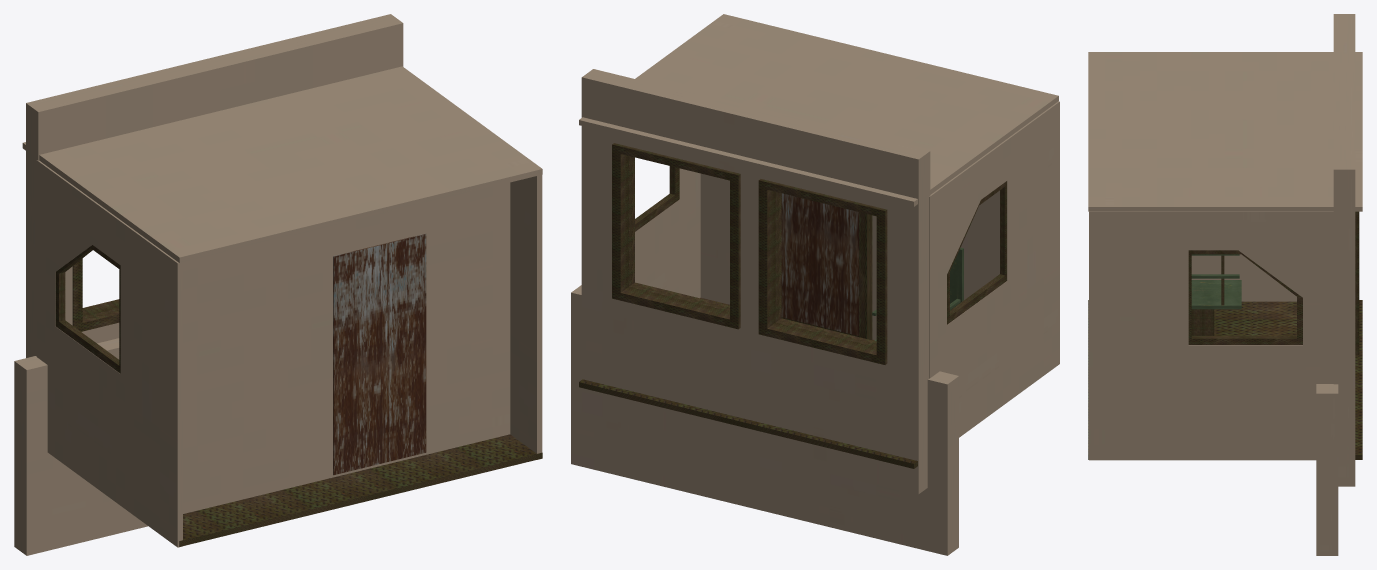
File: Train.glb
The picture shows the model from 3 angles, left to right: view 1: azimuth 30°, elevation 25°; view 2: azimuth 150°, elevation 25°; view 3: azimuth 270°, elevation 25°; orthographic projection. The views are drawn at different scales.
Visible parts, largest first — view 1: Train; view 2: Train; view 3: Train.
Part boxes in pixels (left/top/right/bottom): Train: left=14, top=14, right=542, bottom=555; Train: left=571, top=14, right=1059, bottom=555; Train: left=1088, top=14, right=1362, bottom=555.
Bounding box in the file's own units: 4.59 × 4.64 × 3.06.
4 materials, 4 textured.
